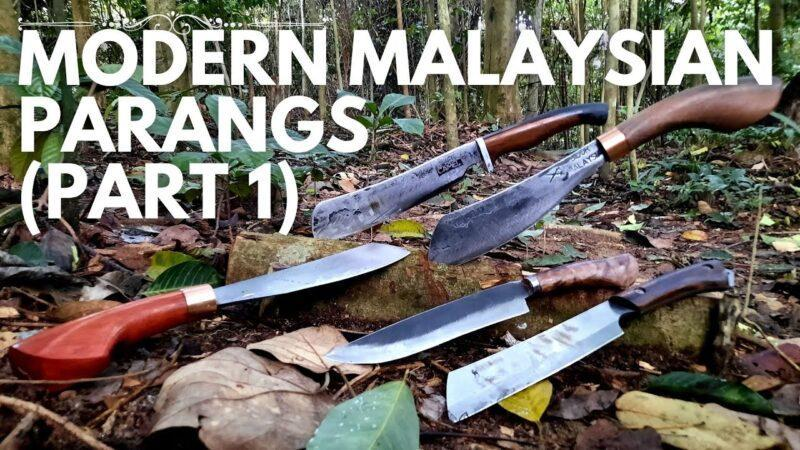facao: (430, 76, 782, 264), (16, 241, 412, 366), (445, 255, 726, 422), (304, 102, 606, 241), (322, 252, 636, 357)
